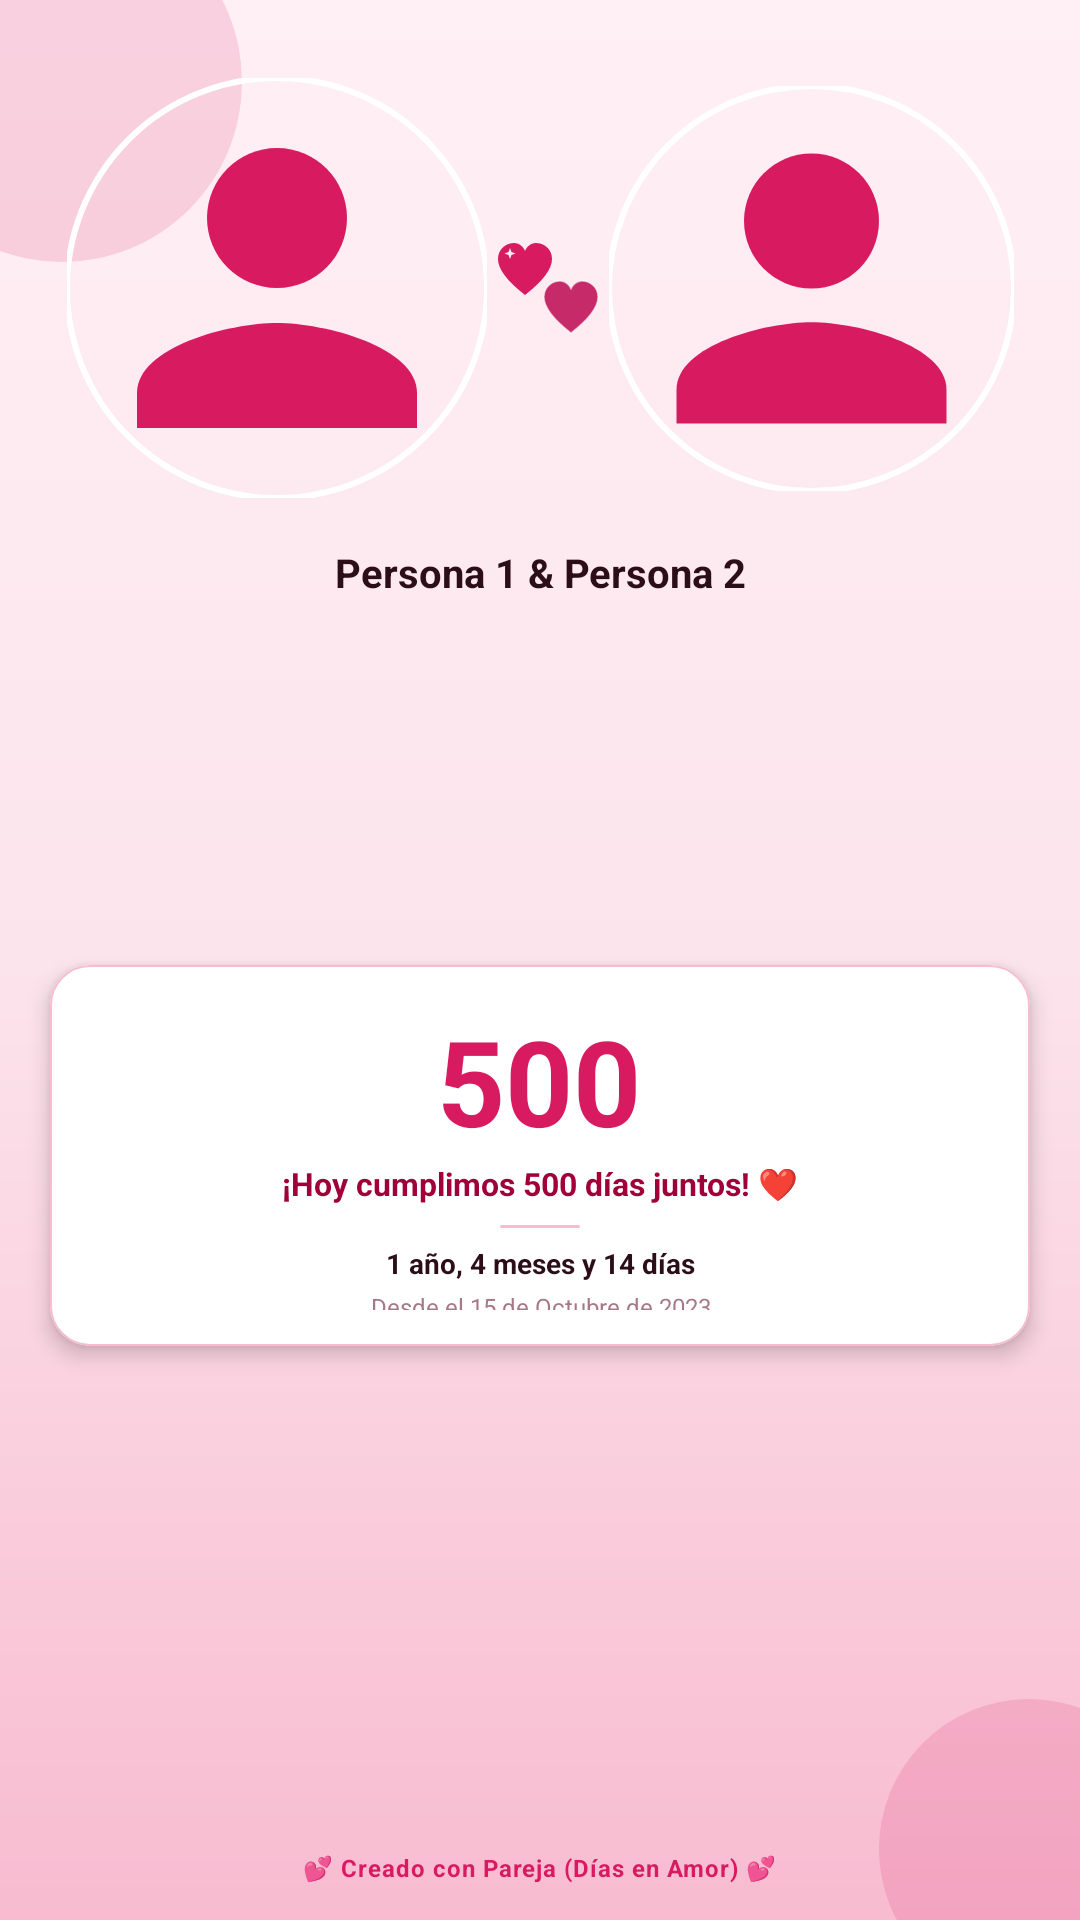

Point at icon controls on the screen. Image size 1080*1920, points as (x=x, y=y).
home union hearts: (x=548, y=288)
